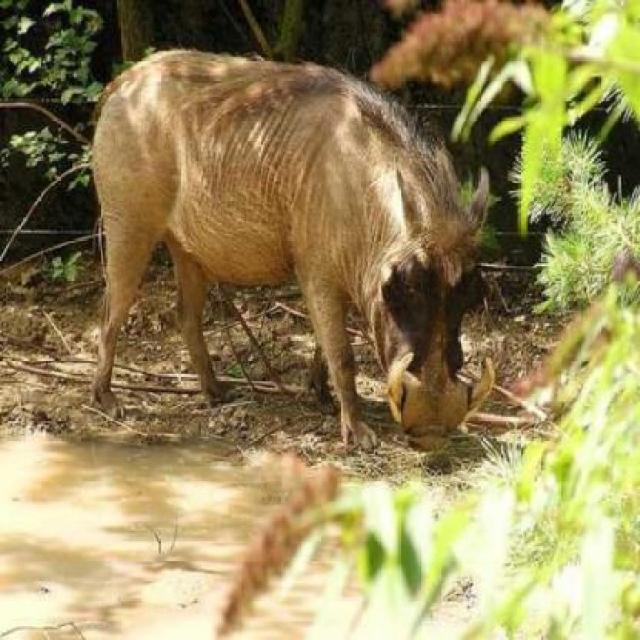pig: (55, 76, 541, 500)
